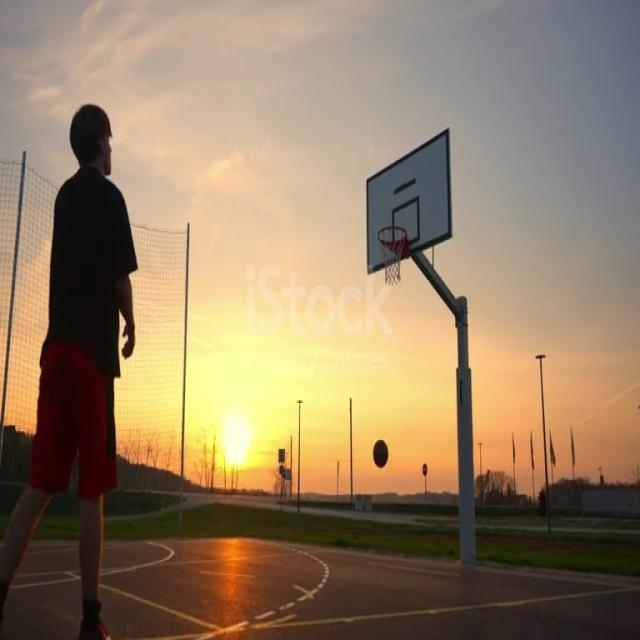ball: (373, 438, 389, 469)
